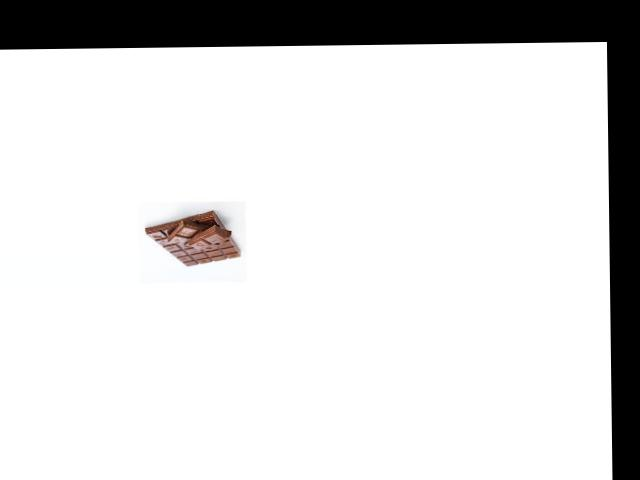chocolate: (143, 206, 241, 271)
